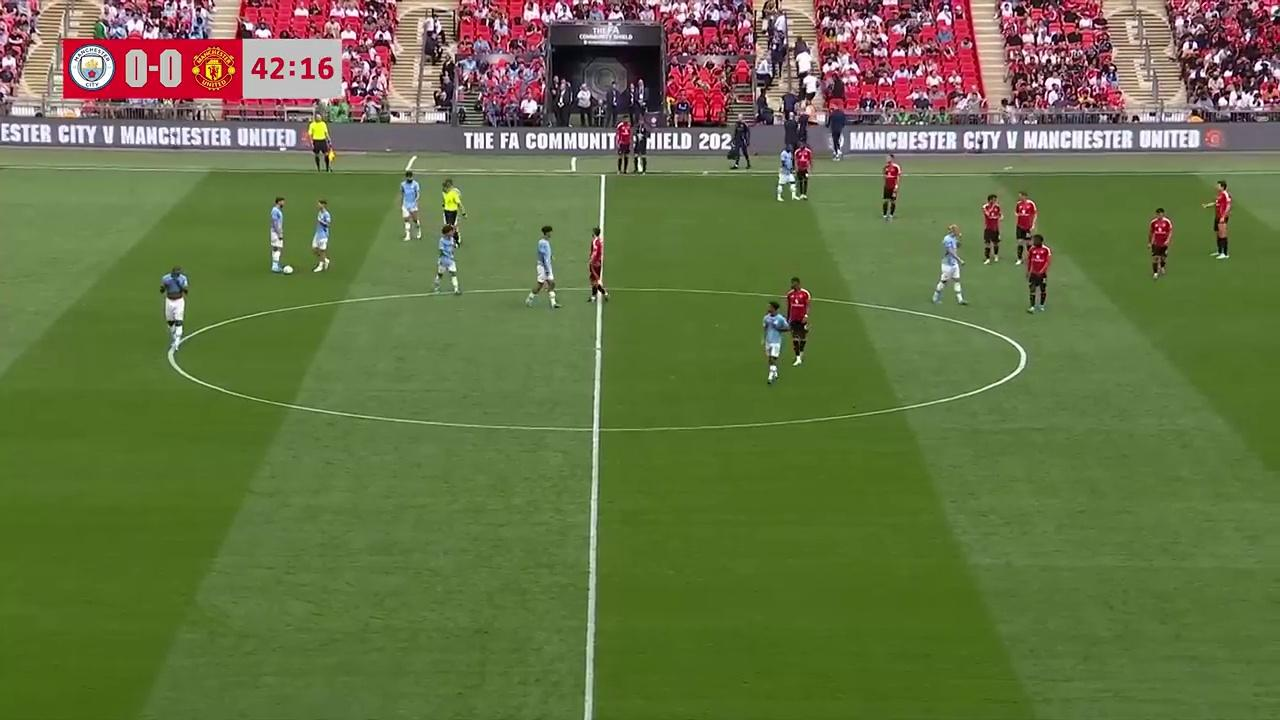ball: (283, 263, 292, 275)
player: (930, 224, 968, 305), (525, 225, 560, 309), (784, 276, 811, 365), (1202, 180, 1232, 259), (1024, 236, 1051, 313), (431, 228, 461, 297), (160, 276, 187, 352), (761, 299, 784, 386), (159, 265, 189, 328), (433, 220, 463, 280), (1014, 190, 1038, 264), (1148, 207, 1172, 279), (586, 229, 609, 304), (398, 171, 422, 240), (981, 192, 1004, 264), (311, 198, 332, 272), (882, 154, 902, 221), (269, 196, 286, 273), (776, 142, 797, 201), (794, 141, 812, 199), (615, 123, 631, 176)
referee: (304, 113, 338, 174), (440, 179, 467, 236)
